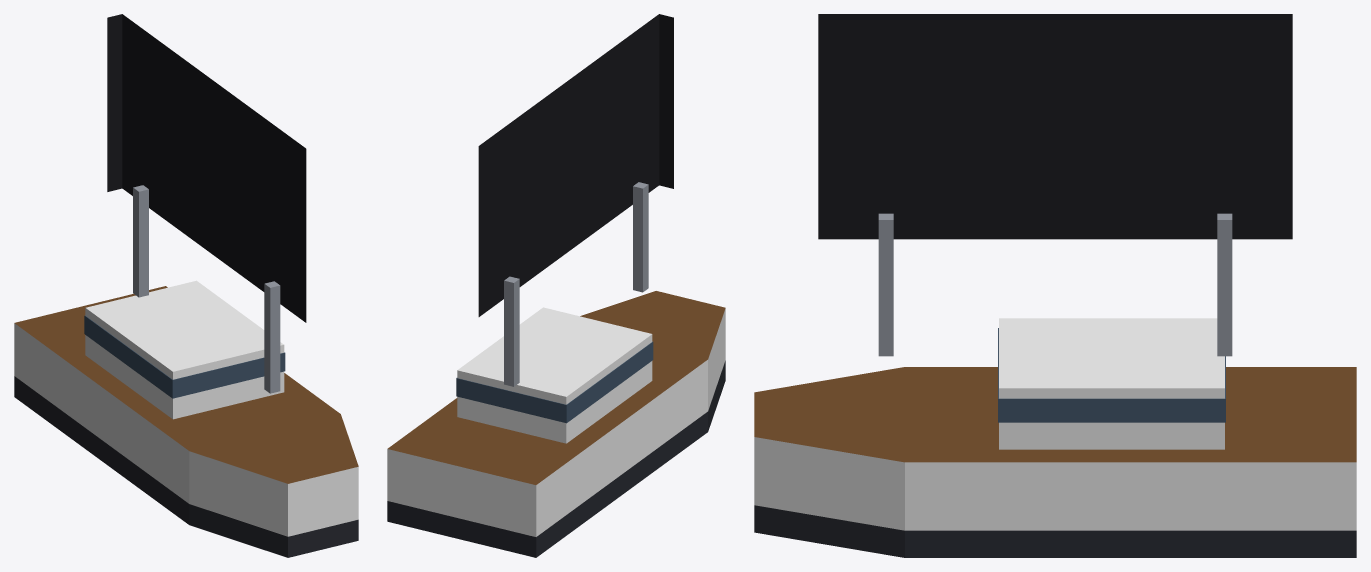
Rendered from yate_led.obj.
The picture shows the model from 3 angles, left to right: view 1: azimuth 30°, elevation 25°; view 2: azimuth 150°, elevation 25°; view 3: azimuth 270°, elevation 25°; orthographic projection. The views are drawn at different scales.
Parts seen in each view (by area): view 1: yate_led; view 2: yate_led; view 3: yate_led.
Boxes of the visible parts, x1=… form: yate_led: x1=14, y1=14, x2=358, y2=557; yate_led: x1=387, y1=14, x2=725, y2=557; yate_led: x1=754, y1=14, x2=1356, y2=557.
Bounding box in the file's own units: 6 × 14.4 × 16.
